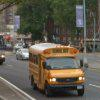Bus: (22, 40, 83, 93)
